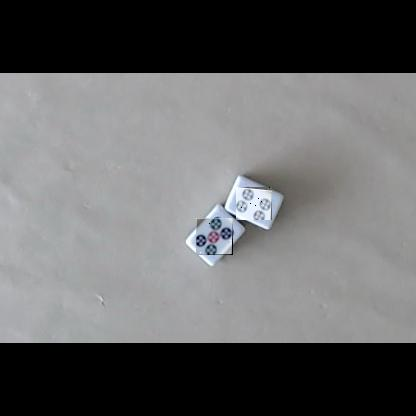4p: (236, 187, 272, 220)
5p: (196, 218, 233, 255)
